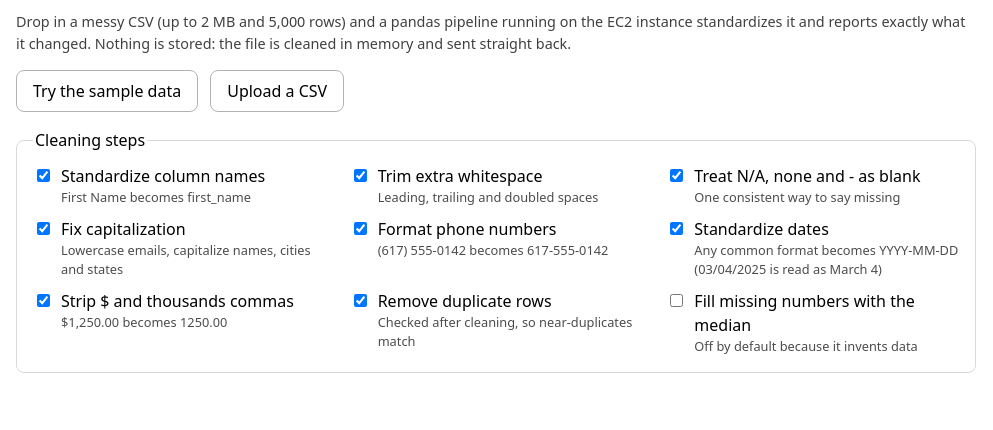
Test: DataCleaner › tells the user when the sample can't be loaded
The image size is (993, 430).
Click the button "Try the sample data" at (107, 91), box [16,70,198,112]
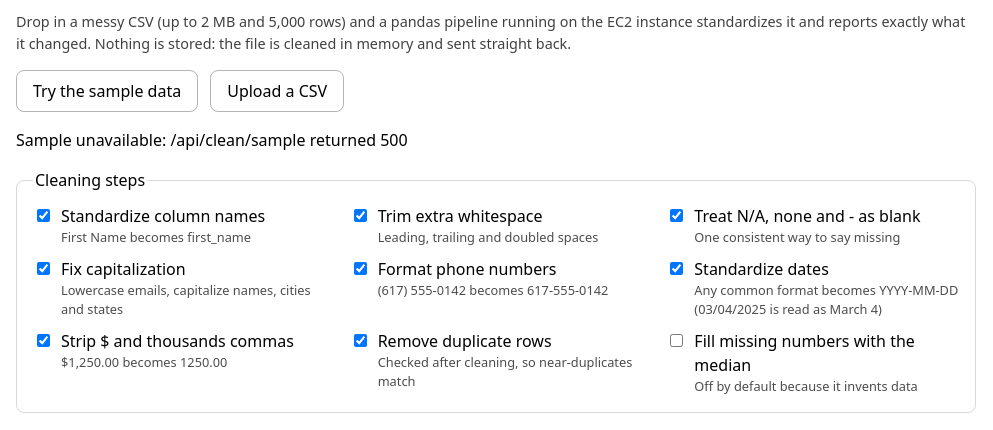
Check: the message shows "Sample unavailable", box [16,129,170,151]
